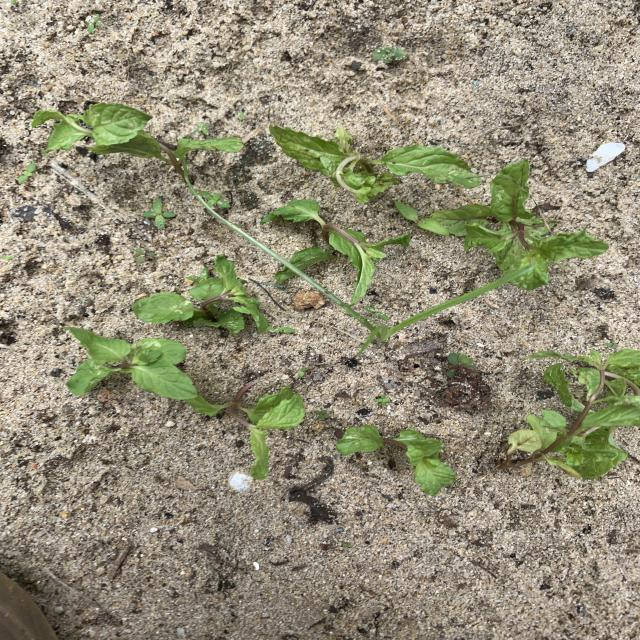crop: (402, 160, 607, 289), (508, 348, 639, 478), (272, 124, 479, 202), (261, 200, 410, 304), (36, 103, 242, 168), (186, 381, 305, 479), (135, 256, 270, 332), (67, 324, 198, 400), (338, 424, 455, 495)
weed: (183, 172, 524, 353), (143, 197, 175, 227), (372, 46, 406, 63), (200, 191, 230, 208), (447, 352, 475, 369), (18, 161, 35, 183), (135, 248, 158, 263), (85, 13, 103, 32), (375, 395, 391, 406), (315, 409, 330, 420), (298, 367, 307, 378), (280, 357, 289, 364)
